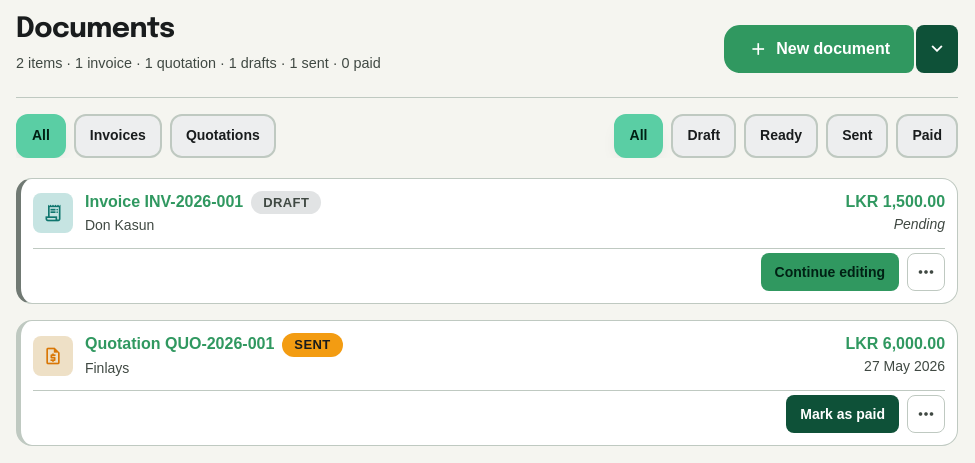
Test: Documents page › filters to drafts only when Draft toggle clicked
Step 1. Click the radio button labelled "Draft" → (704, 136), box [671,114,736,158]
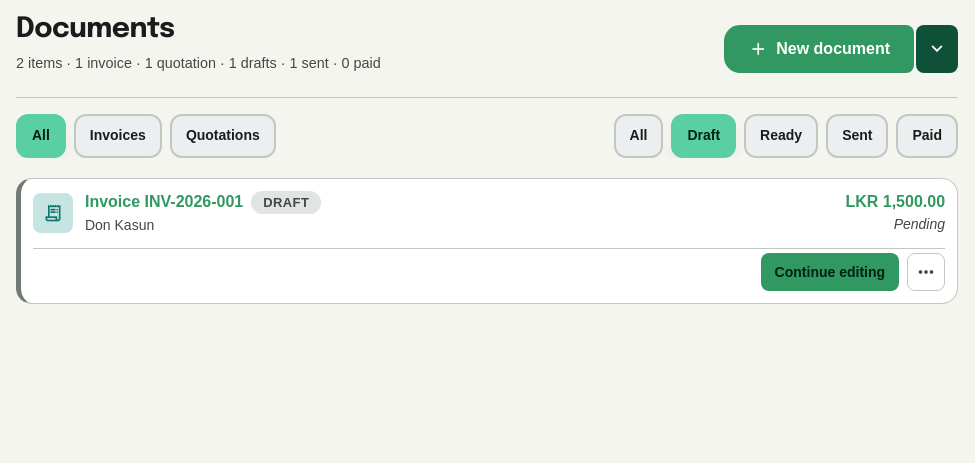
Expected: the text "Don Kasun" is shown, [85,217,154,233]
Result: the text "Finlays" is gone
